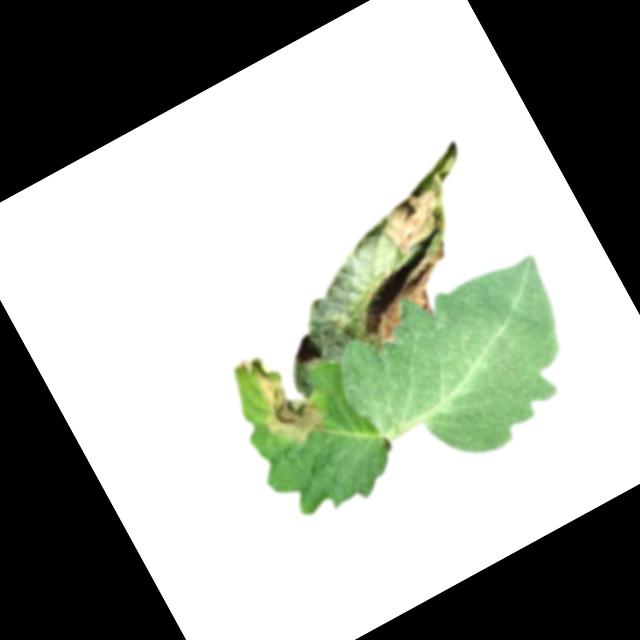Late_blight: (227, 335, 335, 459), (347, 246, 472, 349), (375, 182, 459, 260)
